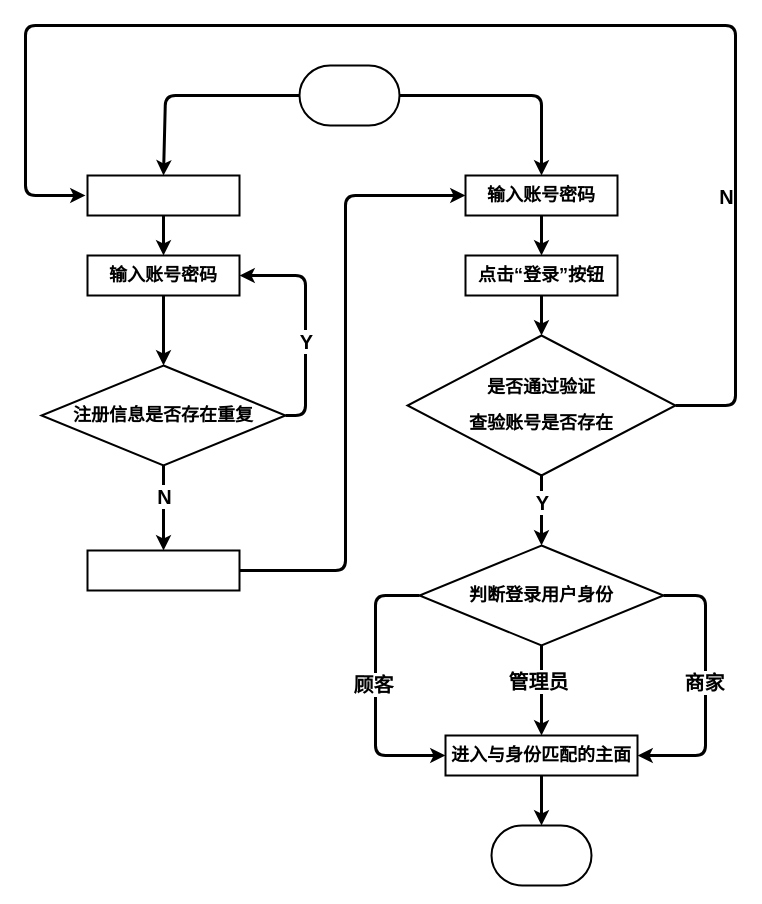
Image size: 762x904. Some labels were removed from this diagram. The shapes that lost their labels are listed below. From the top down, each one's box as (x1, y1, x2, y2) in pixels, then its label:
(298, 64, 400, 126): 开始
(86, 174, 240, 216): 点击“注册”按钮
(86, 549, 240, 591): 确认信息
(490, 824, 592, 886): 结束
